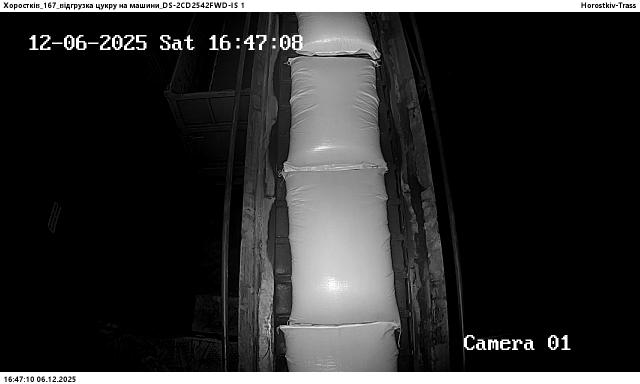bag: (284, 170, 402, 326), (284, 56, 388, 170), (281, 324, 398, 372), (295, 12, 380, 60)
